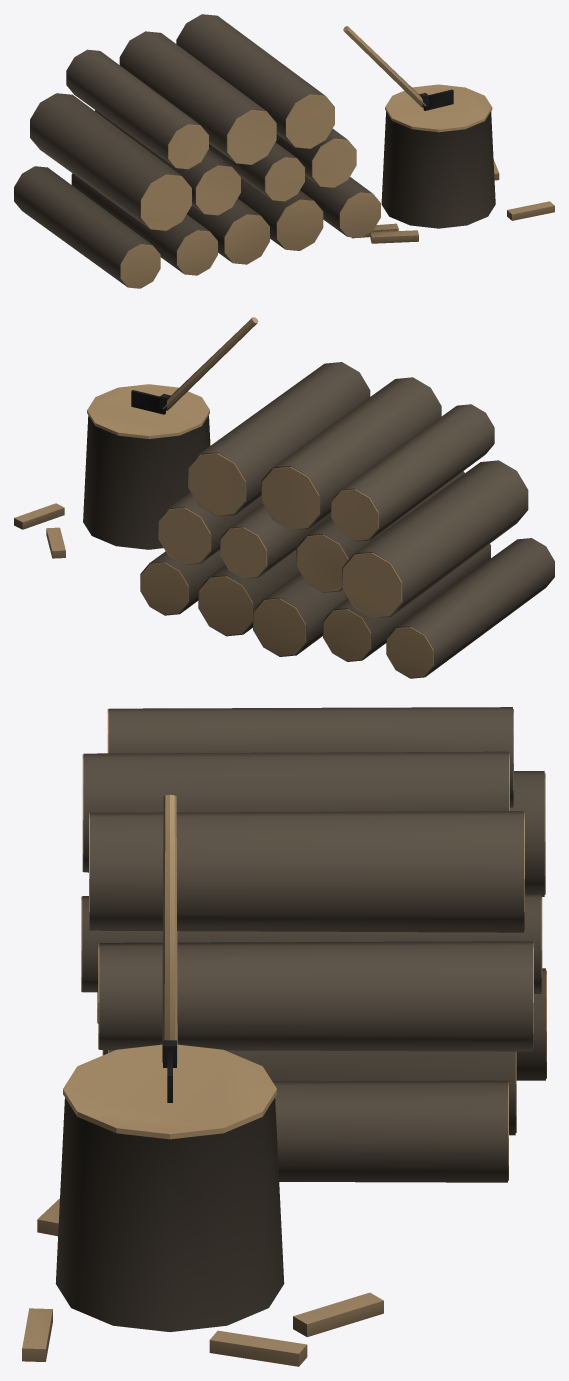
File: pike_log_pile.glb
3 renders of one model, top to bottom at view 1: azimuth 30°, elevation 25°; view 2: azimuth 150°, elevation 25°; view 3: azimuth 270°, elevation 25°, orthographic. The views are drawn at different scales.
Parts seen in each view (by area): view 1: log_pile_LOD0, chopping_stump_LOD0, axe_LOD0; view 2: log_pile_LOD0, chopping_stump_LOD0, axe_LOD0; view 3: log_pile_LOD0, chopping_stump_LOD0, axe_LOD0.
Boxes of the visible parts, <box> form: log_pile_LOD0: <box>14,14,380,288</box>; chopping_stump_LOD0: <box>351,84,554,243</box>; axe_LOD0: <box>343,26,453,110</box>; log_pile_LOD0: <box>140,362,554,678</box>; chopping_stump_LOD0: <box>14,384,210,558</box>; axe_LOD0: <box>131,317,258,414</box>; log_pile_LOD0: <box>81,707,546,1182</box>; chopping_stump_LOD0: <box>22,1044,383,1366</box>; axe_LOD0: <box>162,794,177,1102</box>.
Size of what is drawn, in the model's own units: 2.05 by 0.9292 by 1.1.
